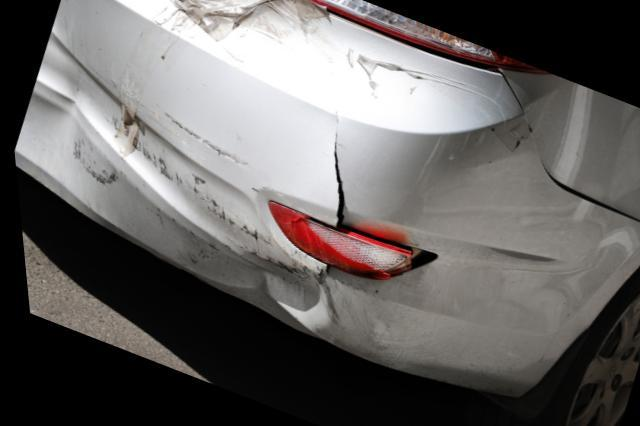crack: (330, 111, 342, 226)
dent: (179, 233, 322, 329), (41, 66, 88, 143)
scratch: (64, 107, 267, 244)
